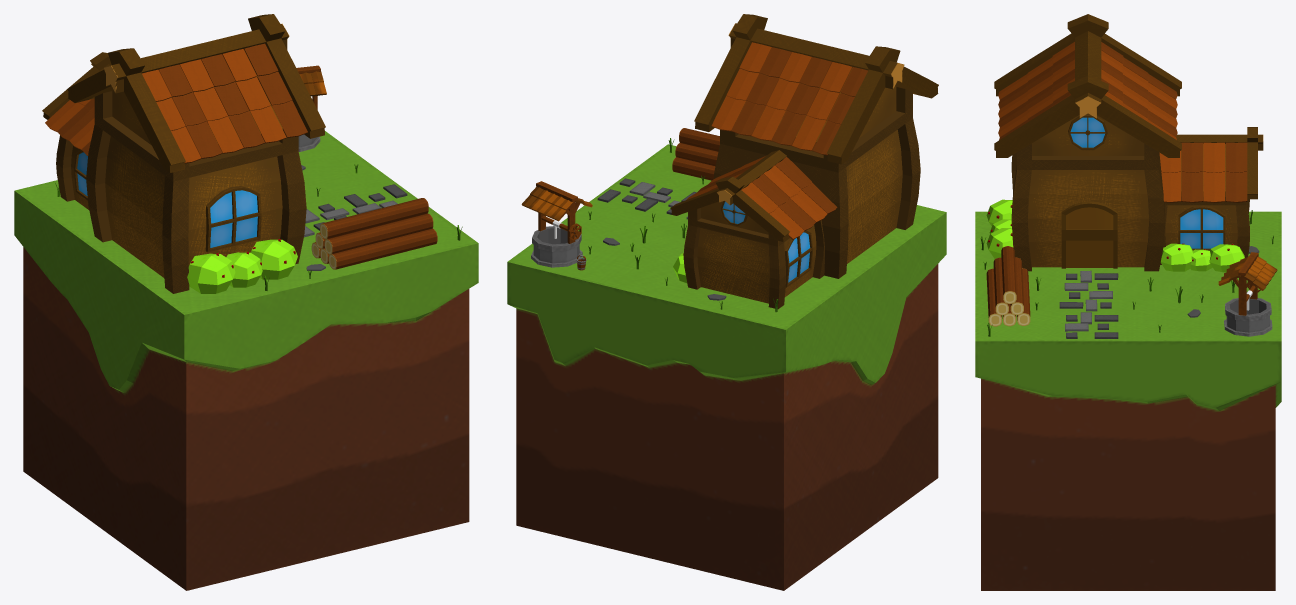
File: Concepts_3.fbx
The picture shows the model from 3 angles, left to right: view 1: azimuth 30°, elevation 25°; view 2: azimuth 150°, elevation 25°; view 3: azimuth 270°, elevation 25°; orthographic projection. The views are drawn at different scales.
Visible parts, largest first — view 1: Cube.056, Cube.057, Cube.058, Cube.059, Cube.061, Cube.062; view 2: Cube.056, Cube.057, Cube.062, Cube.058, Cube.061, Cube.022; view 3: Cube.056, Cube.057, Cube.062, Cube.058, Cube.061, Cube.060, Cube.059, Cube.022.
Part boxes in pixels (x1,y1,x2,y2): Cube.056: (14, 131, 478, 590); Cube.057: (42, 14, 325, 293); Cube.058: (311, 198, 437, 269); Cube.059: (187, 239, 297, 293); Cube.061: (304, 184, 407, 237); Cube.062: (296, 65, 326, 151); Cube.056: (507, 144, 946, 590); Cube.057: (670, 14, 938, 309); Cube.062: (521, 181, 592, 267); Cube.058: (672, 128, 719, 180); Cube.061: (597, 178, 696, 219); Cube.022: (588, 138, 778, 312); Cube.056: (975, 211, 1281, 590); Cube.057: (994, 14, 1263, 271); Cube.062: (1218, 252, 1277, 336); Cube.058: (986, 246, 1030, 326); Cube.061: (1059, 270, 1118, 338); Cube.060: (1160, 243, 1244, 272); Cube.059: (986, 199, 1013, 258); Cube.022: (980, 210, 1273, 336).
Size of the model in its own units: 312 by 487 by 301.
